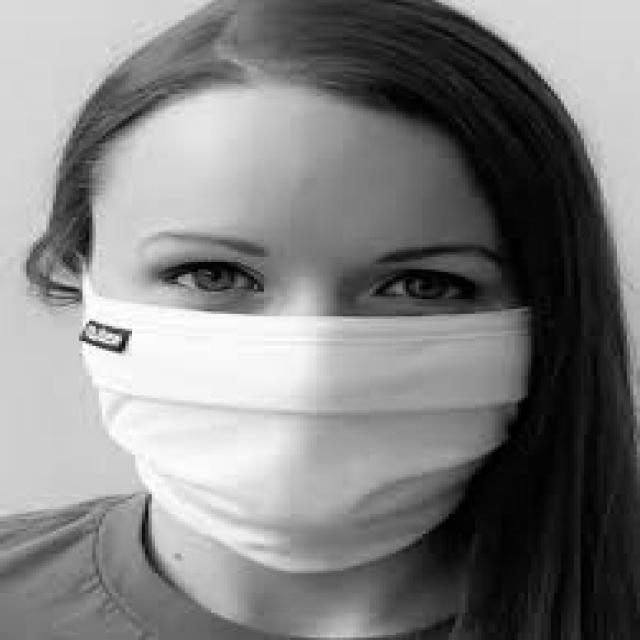with_mask: (72, 264, 534, 574)
